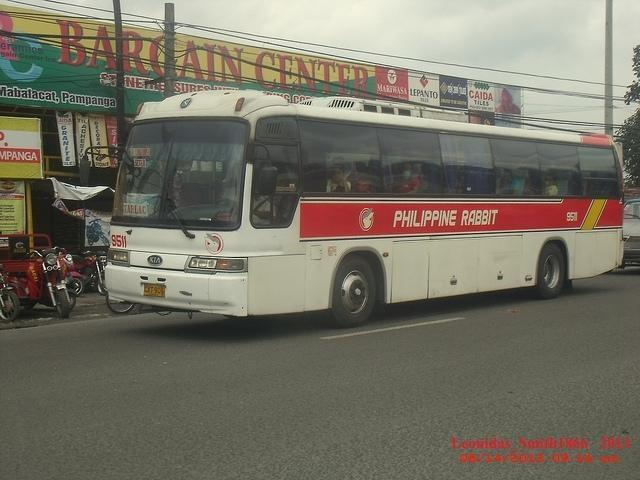bus: (105, 89, 625, 332)
car: (624, 198, 639, 266)
motorcycle: (28, 246, 70, 321), (72, 250, 106, 296), (62, 248, 85, 298), (0, 263, 19, 322)
